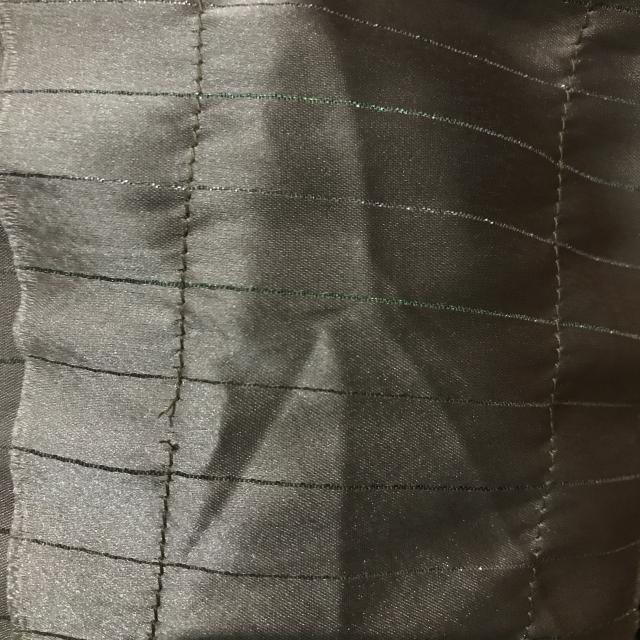broken: (137, 386, 197, 464)
good: (165, 186, 218, 360), (134, 495, 188, 609), (544, 247, 574, 361)
